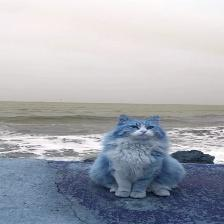kedo: (88, 114, 186, 198)
